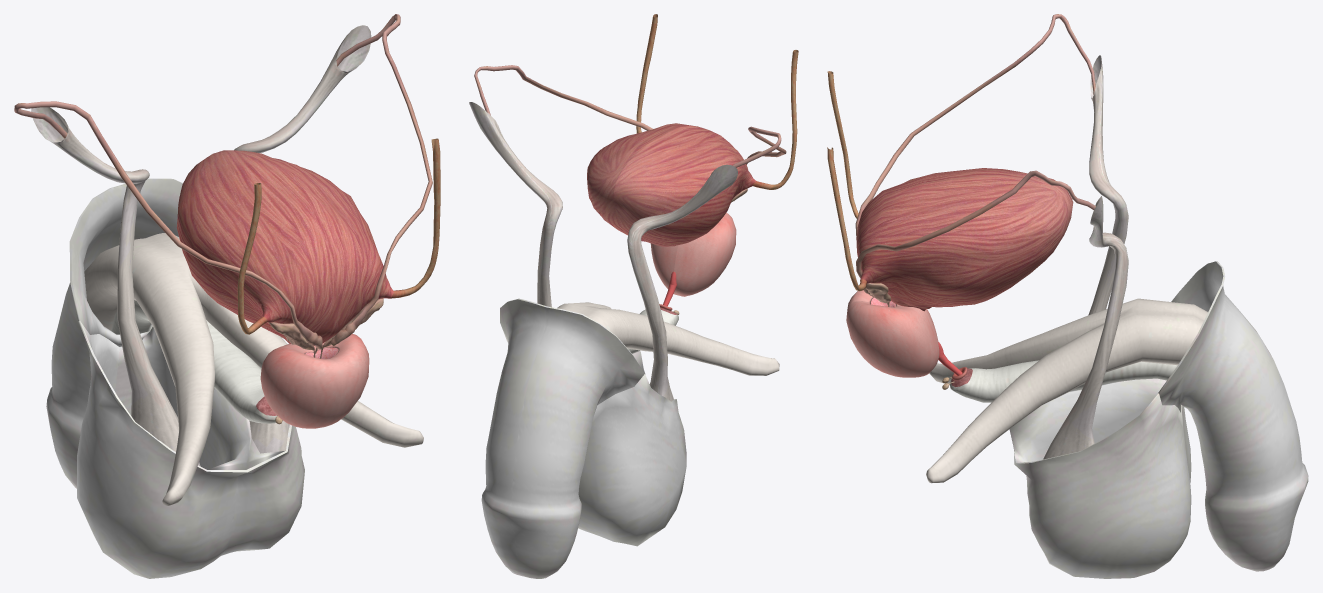
Rendered from male_urinary_system.fbx.
3 views of the same model, side by side, from view 1: azimuth 30°, elevation 25°; view 2: azimuth 150°, elevation 25°; view 3: azimuth 270°, elevation 25° (orthographic). The views are drawn at different scales.
Parts seen in each view (by area): view 1: Dartos_fascia_Male_300071, Bladder__L_half_Male_300050, Buck_s_fascia__upper__Male_300072, Dartos_fascia_Male_300071.002, Bladder__R_half_Male_300051, Spermatic_fascia__L_Male_300697, Prostatic_capsule__L_Male_300085.001, Spermatic_fascia__R_Male_300698, Buck_s_fascia__lower__Male_300073, Vas_deferens__L_Male_001430, Vas_deferens__R_Male_001429, Prostatic_capsule__R_Male_300086.001 (+3 smaller); view 2: Dartos_fascia_Male_300071.002, Dartos_fascia_Male_300071, Bladder__L_half_Male_300050, Buck_s_fascia__upper__Male_300072, Spermatic_fascia__L_Male_300697, Bladder__R_half_Male_300051, Prostatic_capsule__L_Male_300085.001, Spermatic_fascia__R_Male_300698, Vas_deferens__R_Male_001429, Ureter__L_Male_001561, Prostatic_capsule__R_Male_300086.001, Ureter__R_Male_001554 (+1 smaller); view 3: Dartos_fascia_Male_300071, Dartos_fascia_Male_300071.002, Bladder__R_half_Male_300051, Buck_s_fascia__upper__Male_300072, Prostatic_capsule__R_Male_300086.001, Spermatic_fascia__R_Male_300698, Spermatic_fascia__L_Male_300697, Buck_s_fascia__lower__Male_300073, Vas_deferens__L_Male_001430, Vas_deferens__R_Male_001429, Bladder__L_half_Male_300050, Ureter__R_Male_001554 (+1 smaller).
Part boxes in pixels (box(x1,y1,x2,y2)): Dartos_fascia_Male_300071: box(77, 321, 304, 578); Bladder__L_half_Male_300050: box(176, 150, 336, 345); Buck_s_fascia__upper__Male_300072: box(84, 233, 423, 505); Dartos_fascia_Male_300071.002: box(46, 178, 182, 488); Bladder__R_half_Male_300051: box(228, 150, 393, 343); Spermatic_fascia__L_Male_300697: box(31, 107, 200, 466); Prostatic_capsule__L_Male_300085.001: box(260, 344, 342, 428); Spermatic_fascia__R_Male_300698: box(234, 25, 371, 453); Buck_s_fascia__lower__Male_300073: box(111, 300, 276, 423); Vas_deferens__L_Male_001430: box(14, 101, 322, 353); Vas_deferens__R_Male_001429: box(321, 14, 432, 351); Prostatic_capsule__R_Male_300086.001: box(313, 333, 369, 426); Dartos_fascia_Male_300071.002: box(481, 298, 644, 578); Dartos_fascia_Male_300071: box(578, 351, 686, 546); Bladder__L_half_Male_300050: box(614, 125, 755, 246); Buck_s_fascia__upper__Male_300072: box(557, 302, 779, 375); Spermatic_fascia__L_Male_300697: box(627, 164, 737, 401); Bladder__R_half_Male_300051: box(587, 123, 695, 241); Prostatic_capsule__L_Male_300085.001: box(674, 212, 736, 296); Spermatic_fascia__R_Male_300698: box(469, 102, 562, 307); Vas_deferens__R_Male_001429: box(474, 65, 652, 130); Ureter__L_Male_001561: box(752, 50, 798, 189); Prostatic_capsule__R_Male_300086.001: box(650, 243, 678, 294); Ureter__R_Male_001554: box(636, 14, 657, 133); Dartos_fascia_Male_300071: box(1009, 378, 1191, 578); Dartos_fascia_Male_300071.002: box(1158, 261, 1308, 571); Bladder__R_half_Male_300051: box(856, 176, 1073, 307); Buck_s_fascia__upper__Male_300072: box(926, 298, 1207, 483); Prostatic_capsule__R_Male_300086.001: box(846, 301, 939, 377); Spermatic_fascia__R_Male_300698: box(1043, 196, 1128, 459); Spermatic_fascia__L_Male_300697: box(1088, 55, 1128, 315); Buck_s_fascia__lower__Male_300073: box(950, 360, 1177, 402); Vas_deferens__L_Male_001430: box(855, 14, 1095, 236); Vas_deferens__R_Male_001429: box(856, 170, 1095, 304); Bladder__L_half_Male_300050: box(857, 168, 1072, 235); Ureter__R_Male_001554: box(827, 147, 866, 291).
Size of the model in its own units: 0.6019 by 0.7342 by 0.7885.
